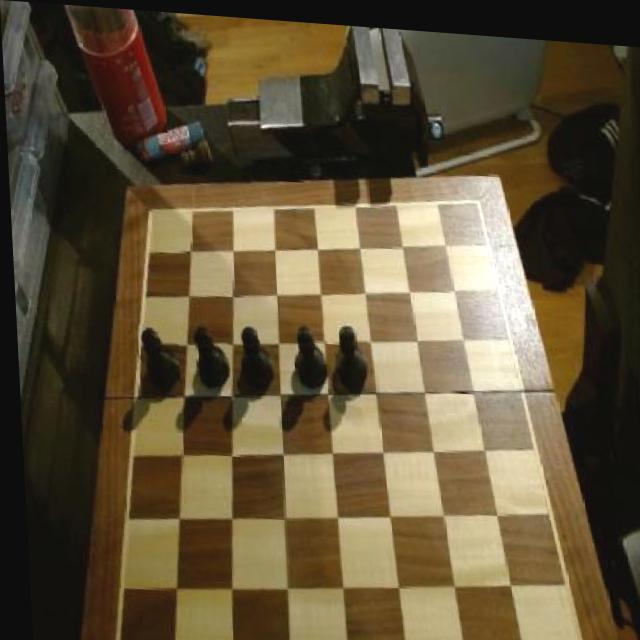black-knight: (134, 322, 178, 397), (186, 319, 228, 388), (289, 318, 328, 387), (328, 317, 366, 387), (234, 321, 273, 389)
